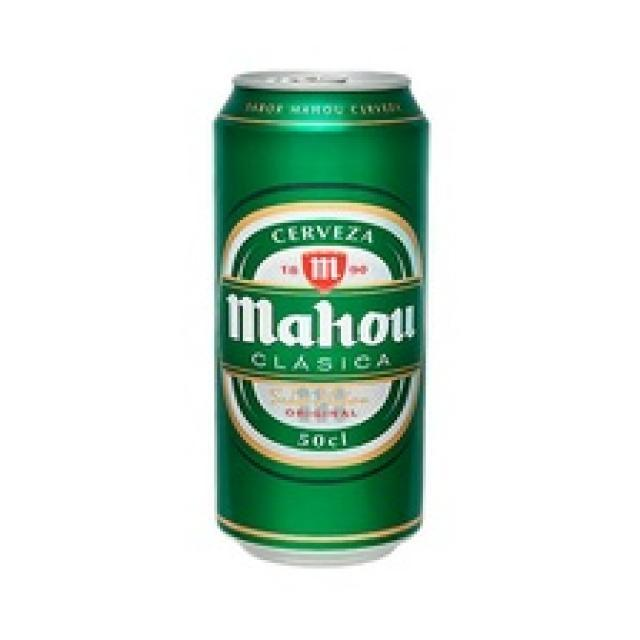recyclable: (210, 72, 428, 564)
